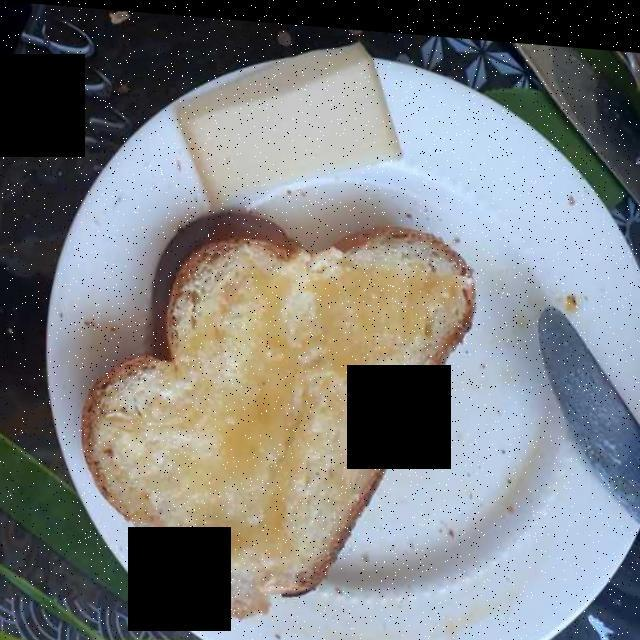bread: (88, 214, 476, 608)
butter: (88, 216, 474, 607)
cheese: (179, 43, 400, 191)
honey: (98, 217, 477, 607)
